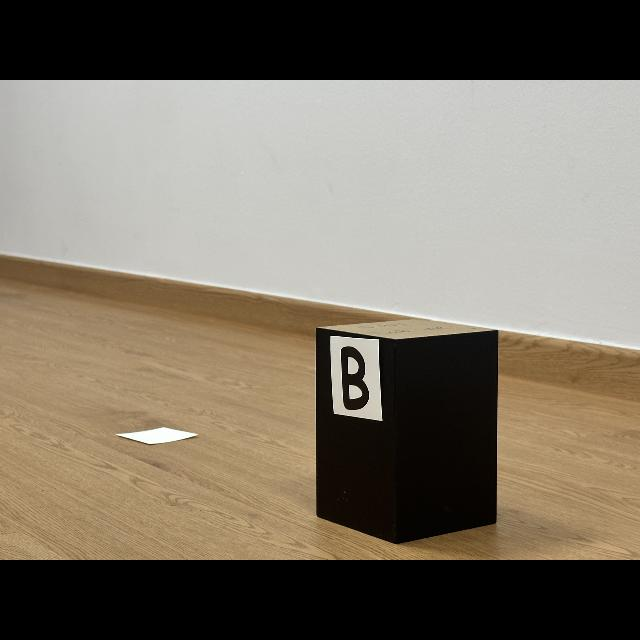B: (341, 346, 369, 410)
